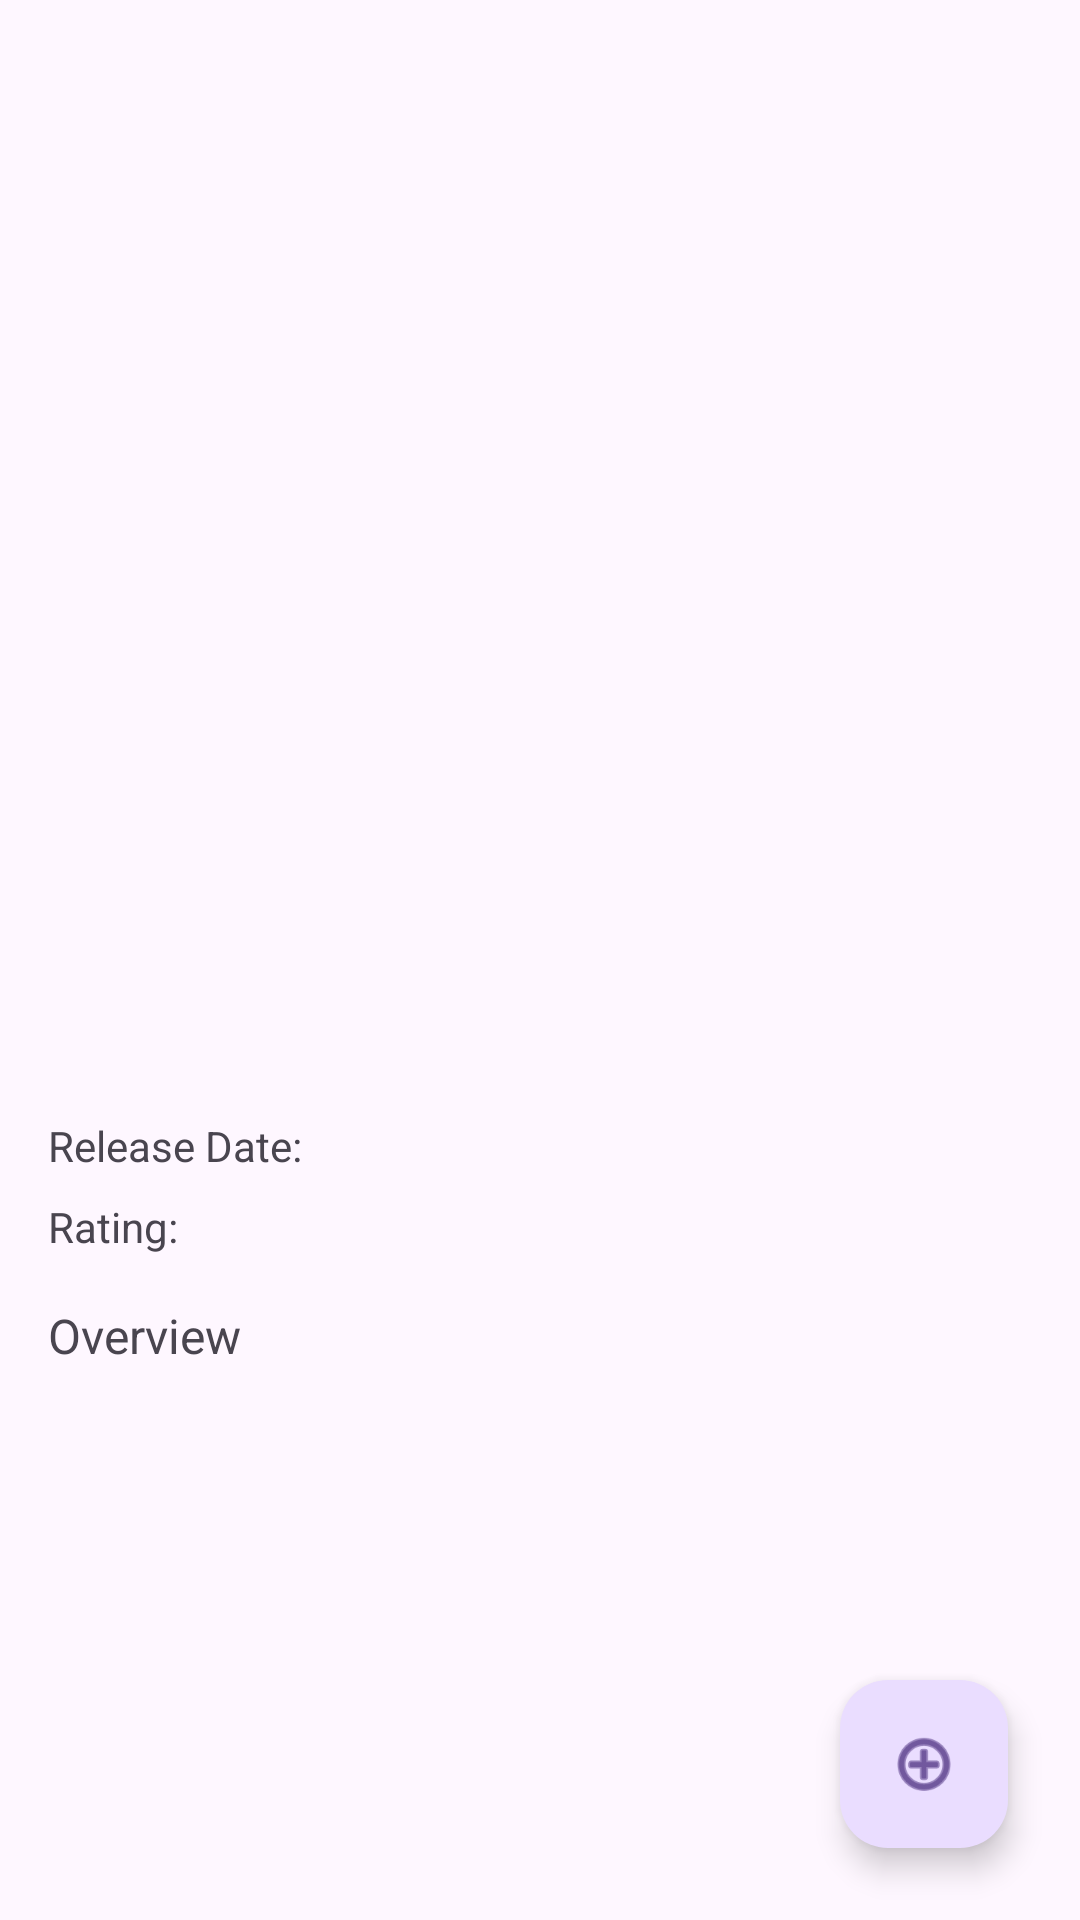

Screen size 1080px×1920px. Icon name, then its box in pixels as [x1=x1, y1=y1, x2=x2, y2=y2]:
Add Watch Later: [x1=840, y1=1680, x2=1008, y2=1848]
